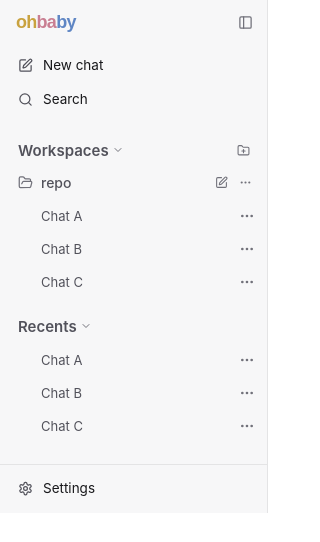
Scenario: keeps a pin when archiving fails and clears it only after success
Later steps or results of the test are not shown.
Click the 1st button named "Actions for Chat B".
click(247, 249)  # box [235,237,259,261]
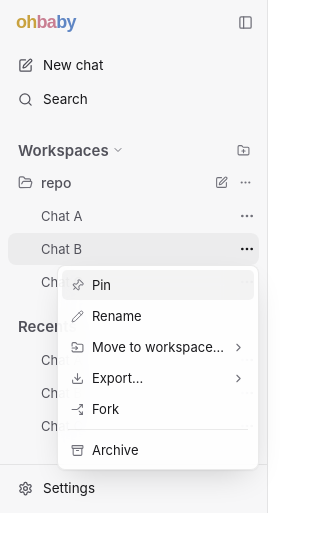
Click the menu item "Pin".
click(158, 285)  # box [62,270,254,300]
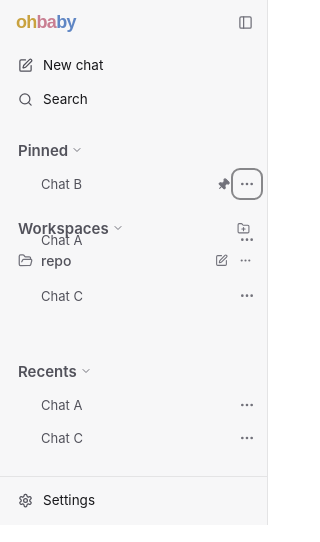
Click the button named "Actions for Chat B".
click(247, 184)  # box [235,172,259,196]
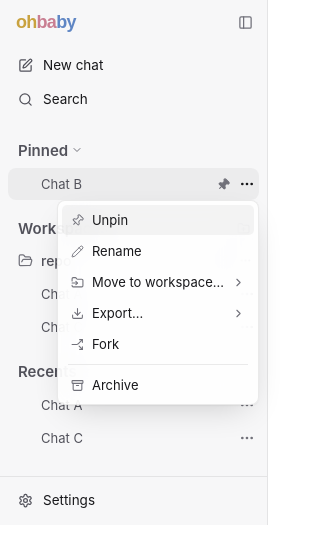
Click the menu item "Archive".
click(158, 385)  # box [62,370,254,400]
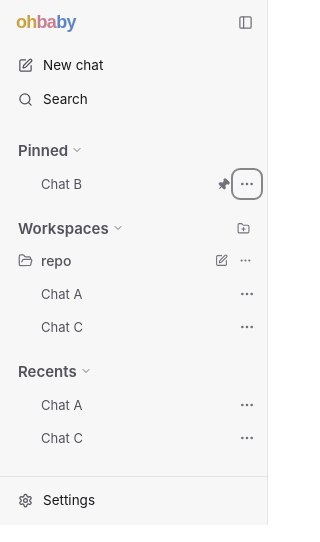
Expected: the button named "Unpin Chat B" is shown, [211,172,235,196]
